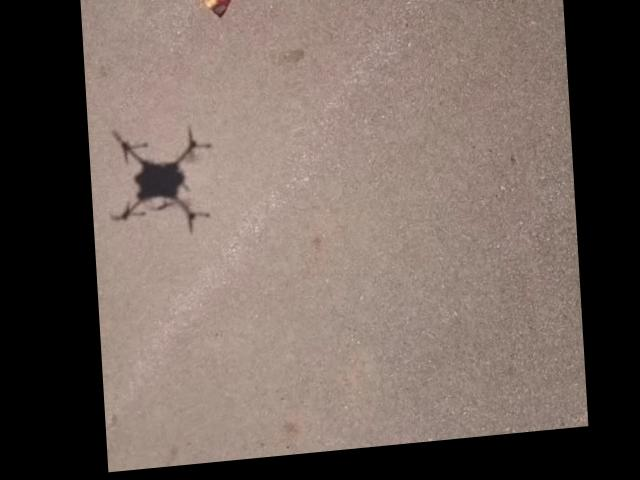fire-poster: (131, 0, 281, 29)
